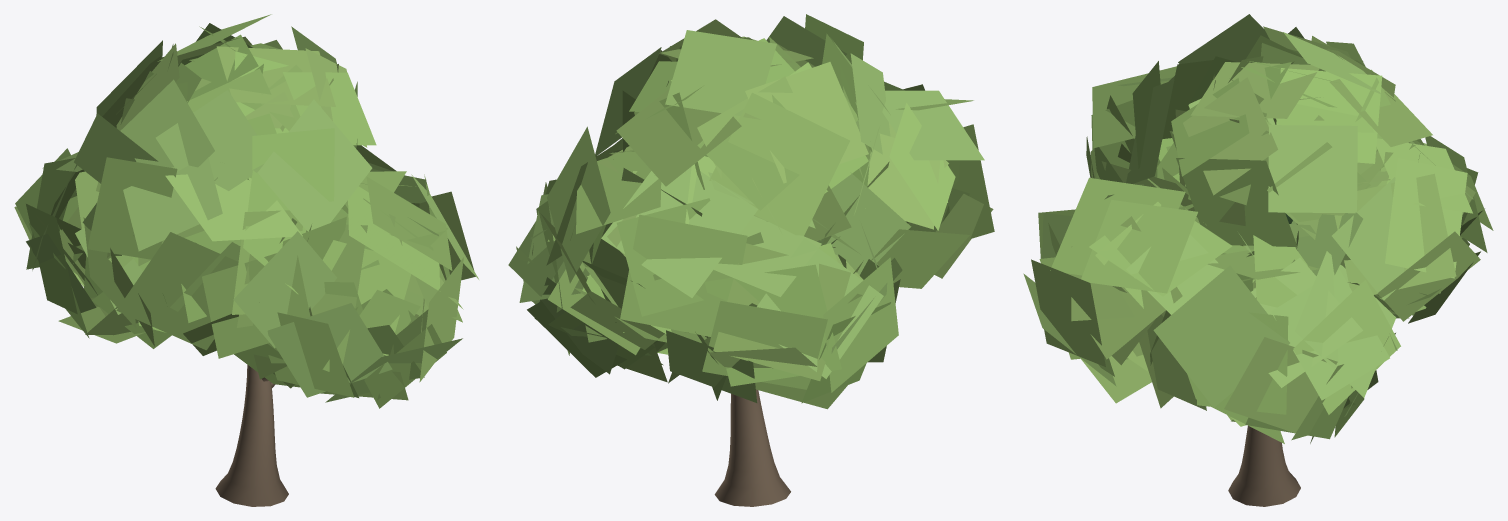
File: tree_oak_0.glb
3 views of the same model, side by side, from view 1: azimuth 30°, elevation 25°; view 2: azimuth 150°, elevation 25°; view 3: azimuth 270°, elevation 25° (orthographic). The views are drawn at different scales.
Parts seen in each view (by area): view 1: Tree; view 2: Tree; view 3: Tree.
Part boxes in pixels (box(x1,y1,x2,y2)): Tree: box(14, 14, 478, 506); Tree: box(508, 14, 994, 506); Tree: box(1023, 14, 1493, 506).
Size of the model in its own units: 6.98 by 7.73 by 7.34.
